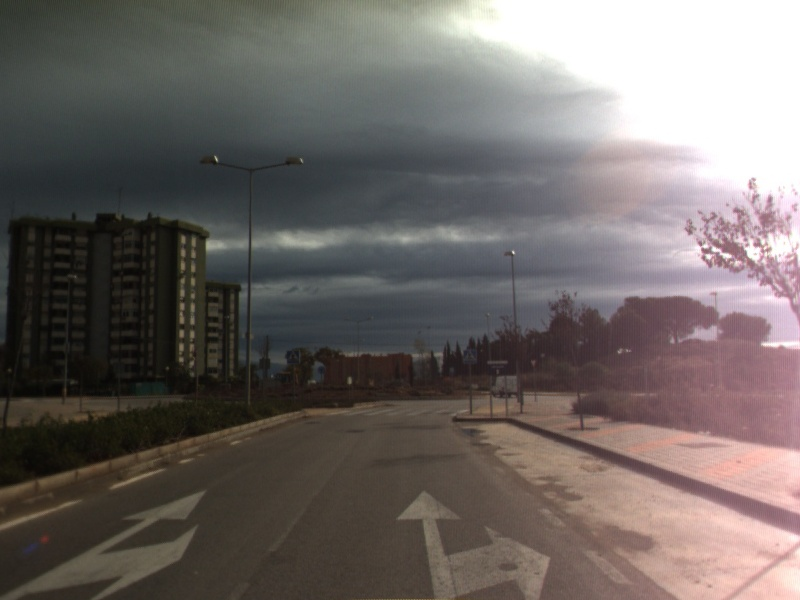STRAIGHT_RIGHT: (1, 487, 210, 600), (393, 488, 553, 600)
